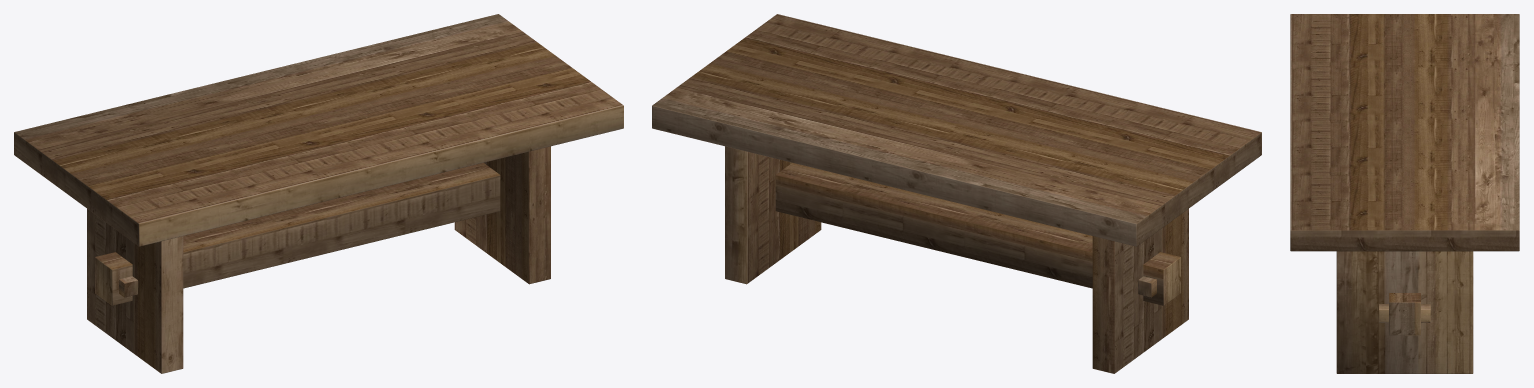
Rendered from tavolo.glb.
3 views of the same model, side by side, from view 1: azimuth 30°, elevation 25°; view 2: azimuth 150°, elevation 25°; view 3: azimuth 270°, elevation 25° (orthographic). The views are drawn at different scales.
Parts seen in each view (by area): view 1: 1112_ReclaimedWoodDiningTable; view 2: 1112_ReclaimedWoodDiningTable; view 3: 1112_ReclaimedWoodDiningTable.
Part boxes in pixels (x1,y1,x2,y2): 1112_ReclaimedWoodDiningTable: (14, 14, 623, 373); 1112_ReclaimedWoodDiningTable: (652, 14, 1261, 373); 1112_ReclaimedWoodDiningTable: (1290, 14, 1519, 373).
Size of the model in its own units: 2.21 by 0.7869 by 0.99.
Materials: 1 (1 with a texture image).
